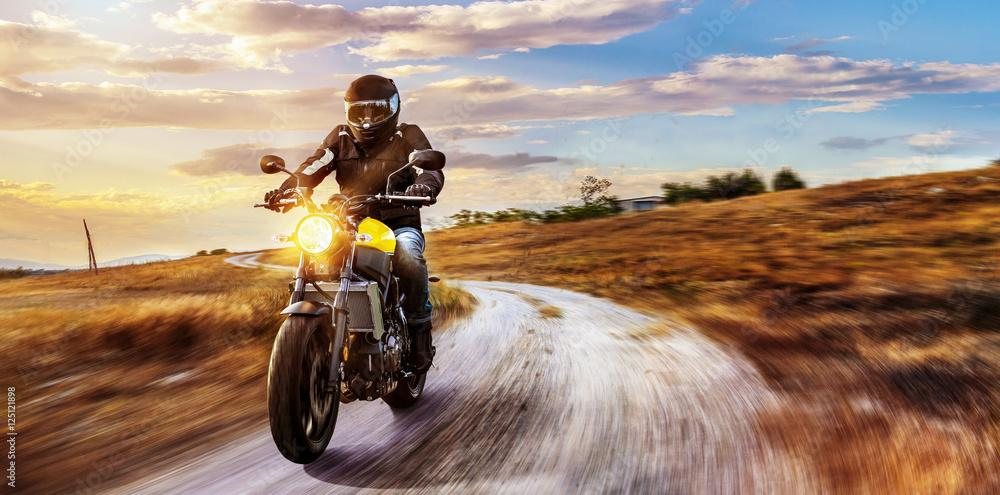helmet: (343, 73, 402, 151)
